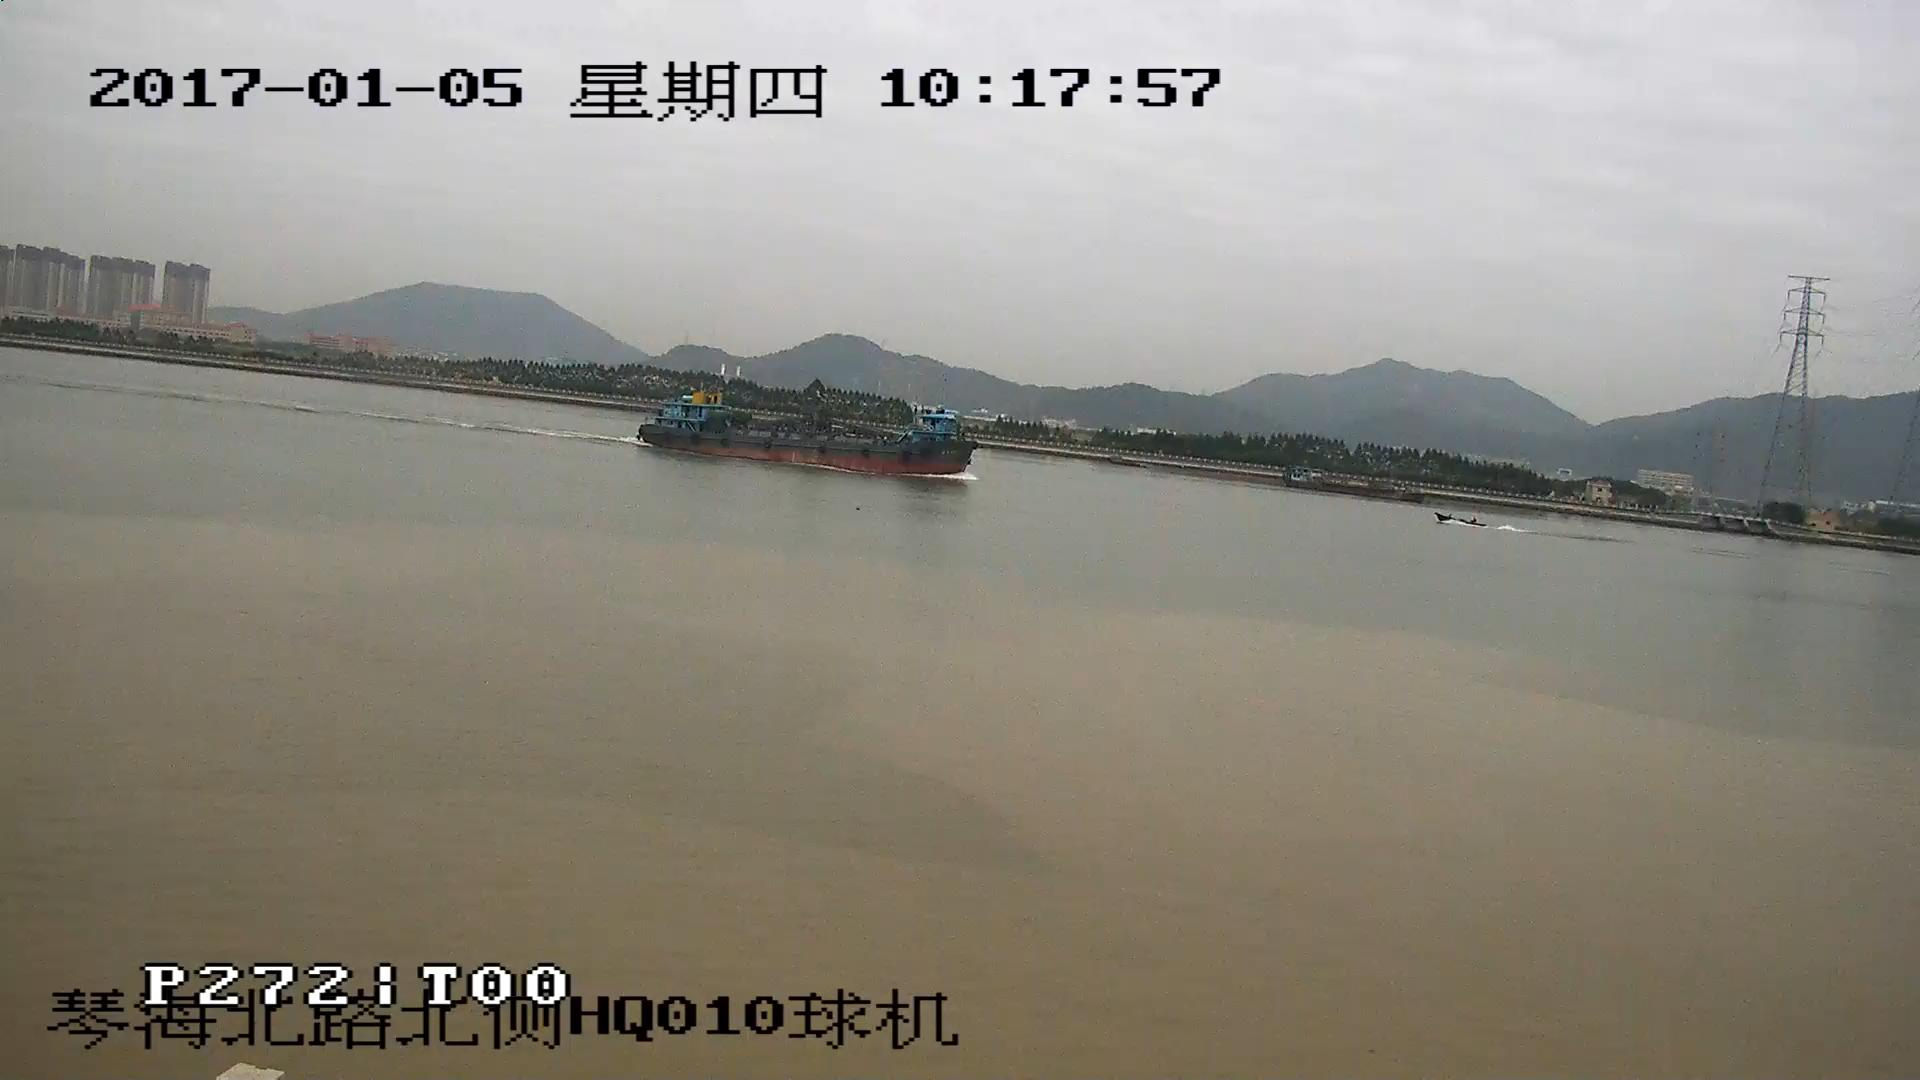bulk cargo carrier: (643, 375, 967, 480)
